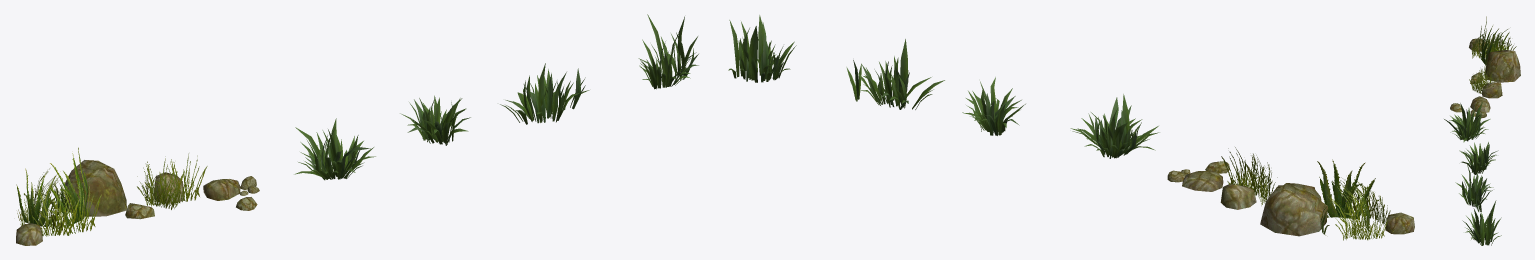
Rendered from shitoucao0314.FBX.
3 renders of one model, left to right at view 1: azimuth 30°, elevation 25°; view 2: azimuth 150°, elevation 25°; view 3: azimuth 270°, elevation 25°, orthographic. The views are drawn at different scales.
Parts seen in each view (by area): view 1: s7_jiemian_cao_005, s7_jiemian_shitou_001, s7_jiemian_cao_003, s7_jiemian_cao_001, s7_jiemian_cao_004, s7_jiemian_cao_002; view 2: s7_jiemian_shitou_001, s7_jiemian_cao_005, s7_jiemian_cao_004, s7_jiemian_cao_003, s7_jiemian_cao_001, s7_jiemian_cao_002; view 3: s7_jiemian_shitou_001, s7_jiemian_cao_005, s7_jiemian_cao_001, s7_jiemian_cao_004, s7_jiemian_cao_003, s7_jiemian_cao_002.
Boxes of the visible parts, x1=… form: s7_jiemian_cao_005: x1=16, y1=147, x2=207, y2=236; s7_jiemian_shitou_001: x1=16, y1=160, x2=259, y2=245; s7_jiemian_cao_003: x1=500, y1=63, x2=589, y2=124; s7_jiemian_cao_001: x1=294, y1=118, x2=375, y2=180; s7_jiemian_cao_004: x1=638, y1=14, x2=698, y2=89; s7_jiemian_cao_002: x1=400, y1=95, x2=470, y2=145; s7_jiemian_shitou_001: x1=1167, y1=161, x2=1414, y2=236; s7_jiemian_cao_005: x1=1221, y1=147, x2=1390, y2=240; s7_jiemian_cao_004: x1=728, y1=15, x2=796, y2=82; s7_jiemian_cao_003: x1=846, y1=39, x2=944, y2=109; s7_jiemian_cao_001: x1=1070, y1=94, x2=1159, y2=158; s7_jiemian_cao_002: x1=962, y1=77, x2=1025, y2=135; s7_jiemian_shitou_001: x1=1450, y1=38, x2=1520, y2=118; s7_jiemian_cao_005: x1=1469, y1=16, x2=1516, y2=93; s7_jiemian_cao_001: x1=1444, y1=102, x2=1490, y2=142; s7_jiemian_cao_004: x1=1462, y1=200, x2=1501, y2=245; s7_jiemian_cao_003: x1=1455, y1=163, x2=1493, y2=211; s7_jiemian_cao_002: x1=1459, y1=142, x2=1498, y2=174.
Size of the model in its own units: 588 by 58.54 by 95.37.
3 materials, 3 textured.
